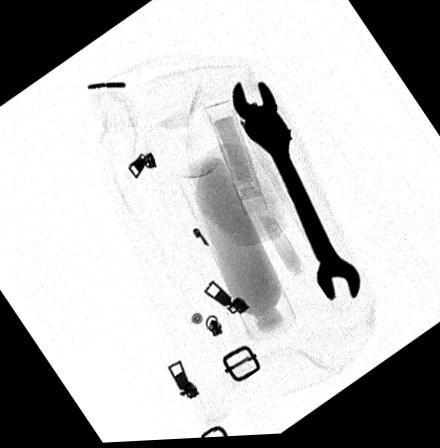Wrench: (210, 64, 413, 270)
